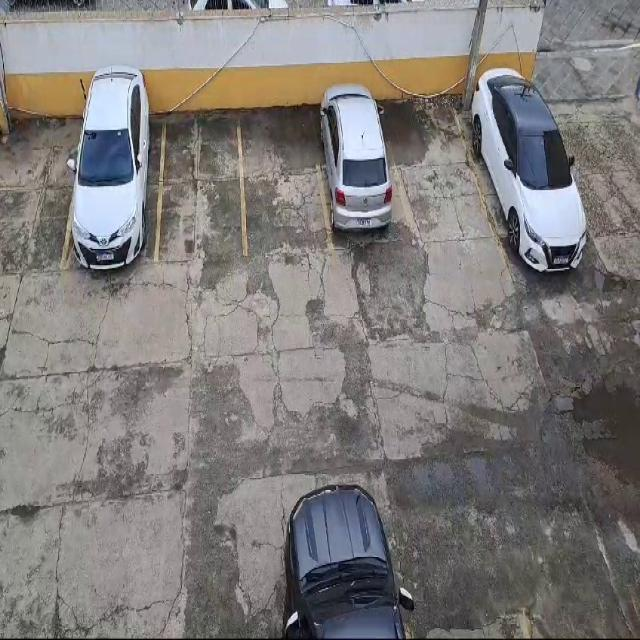empty: (381, 96, 502, 262), (236, 104, 329, 260), (158, 116, 248, 262)
notEmpty: (457, 86, 585, 265), (312, 99, 417, 268), (63, 104, 167, 270)
